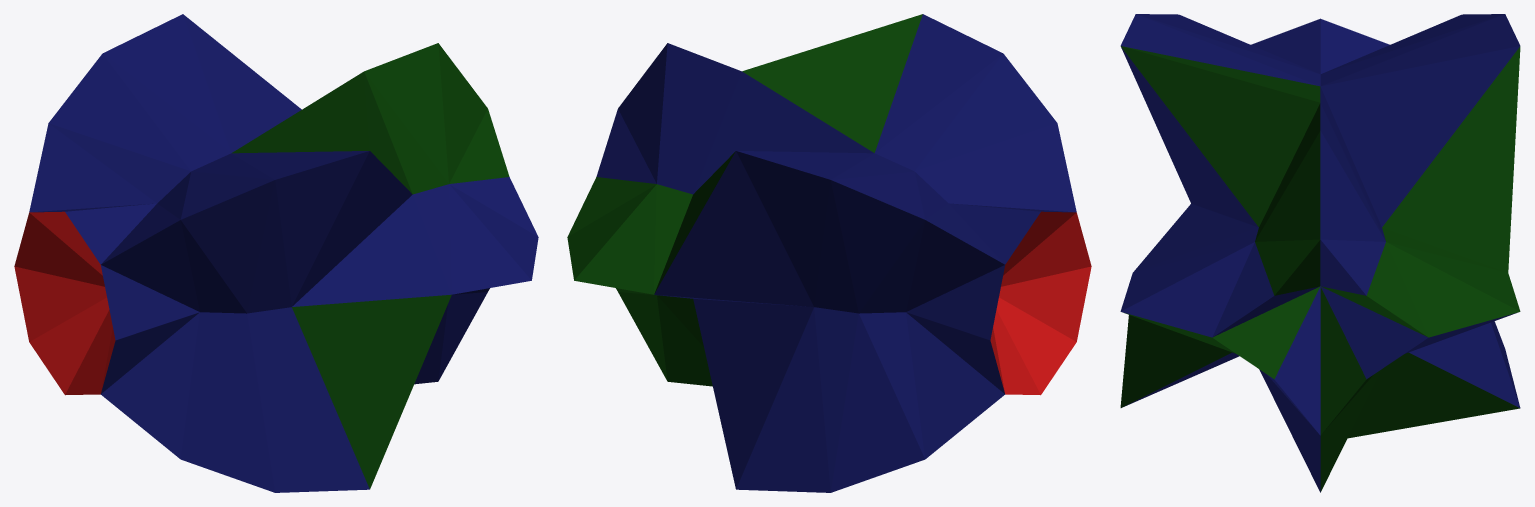
The model's file is enemy.obj.
3 views of the same model, side by side, from view 1: azimuth 30°, elevation 25°; view 2: azimuth 150°, elevation 25°; view 3: azimuth 270°, elevation 25° (orthographic). The views are drawn at different scales.
Visible parts, largest first — view 1: Sphere; view 2: Sphere; view 3: Sphere.
Part boxes in pixels (x1,y1,x2,y2): Sphere: [14, 14, 538, 492]; Sphere: [567, 14, 1091, 492]; Sphere: [1120, 14, 1520, 492].
Size of the model in its own units: 1.85 by 1.41 by 1.41.
